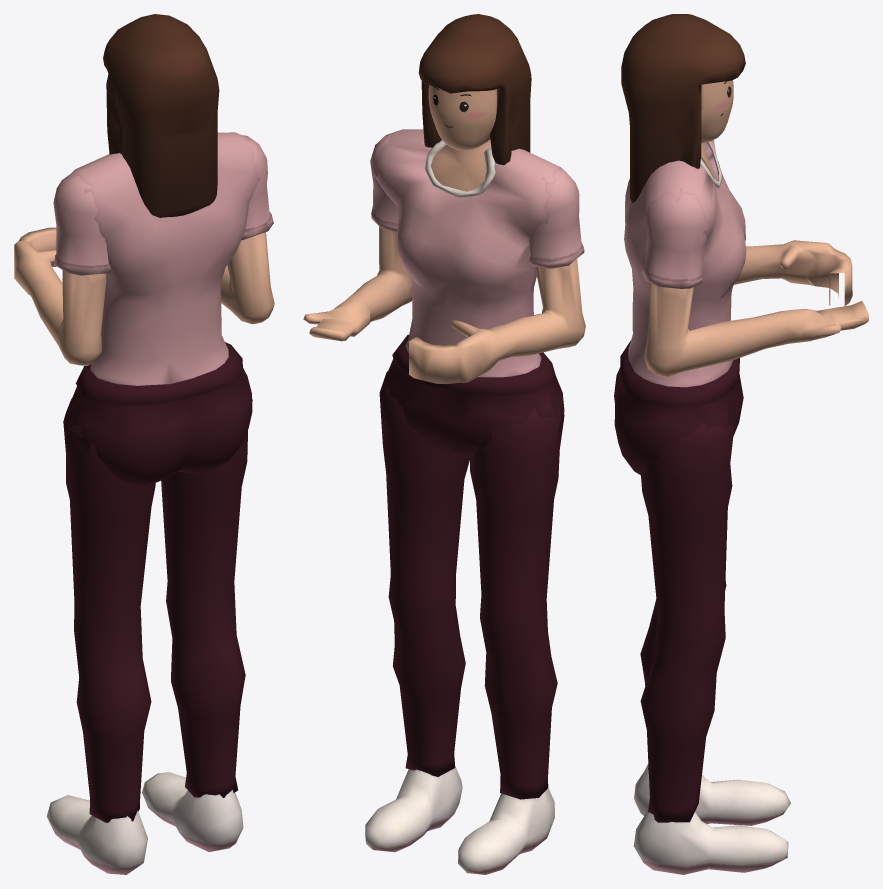
File: npc_bangs.glb
The picture shows the model from 3 angles, left to right: view 1: azimuth 30°, elevation 25°; view 2: azimuth 150°, elevation 25°; view 3: azimuth 270°, elevation 25°; orthographic projection. The views are drawn at different scales.
Visible parts, largest first — view 1: Torso_Top, LegL_Pants, LegR_Pants, Head_Hair, Torso_Hips, ArmL_Skin, LegR_Shoe, LegL_Shoe, ArmL_Sleeve, ArmR_Skin, ArmR_Sleeve; view 2: LegL_Pants, Torso_Top, LegR_Pants, Torso_Hips, Head_Hair, ArmL_Skin, LegR_Shoe, LegL_Shoe, ArmR_Skin, ArmL_Sleeve, Head_Skin, Torso_Skin (+2 smaller); view 3: LegR_Pants, Head_Hair, Torso_Top, ArmR_Skin, Torso_Hips, LegR_Shoe, ArmR_Sleeve, ArmL_Skin, LegL_Shoe, Head_Skin, LegL_Pants.
Boxes of the visible parts, x1,y1,x2,y2 form: Torso_Top: [67, 132, 260, 385]; LegL_Pants: [63, 398, 155, 822]; LegR_Pants: [161, 399, 252, 797]; Head_Hair: [103, 14, 219, 217]; Torso_Hips: [68, 342, 252, 484]; ArmL_Skin: [14, 227, 106, 365]; LegR_Shoe: [142, 772, 243, 851]; LegL_Shoe: [46, 795, 147, 874]; ArmL_Sleeve: [53, 171, 111, 275]; ArmR_Skin: [221, 232, 274, 324]; ArmR_Sleeve: [237, 134, 273, 240]; LegL_Pants: [470, 408, 564, 799]; Torso_Top: [373, 129, 567, 377]; LegR_Pants: [379, 371, 469, 776]; Torso_Hips: [384, 334, 564, 458]; Head_Hair: [418, 14, 531, 165]; ArmL_Skin: [408, 259, 585, 383]; LegR_Shoe: [365, 766, 462, 852]; LegL_Shoe: [458, 788, 554, 874]; ArmR_Skin: [303, 226, 412, 341]; ArmL_Sleeve: [529, 167, 584, 268]; Head_Skin: [428, 85, 497, 150]; Torso_Skin: [431, 139, 491, 191]; LegR_Pants: [640, 422, 733, 822]; Head_Hair: [621, 14, 745, 202]; Torso_Top: [624, 140, 746, 387]; ArmR_Skin: [644, 283, 868, 376]; Torso_Hips: [614, 340, 743, 475]; LegR_Shoe: [633, 809, 788, 874]; ArmR_Sleeve: [641, 188, 709, 288]; ArmL_Skin: [734, 240, 852, 305]; LegL_Shoe: [634, 764, 790, 825]; Head_Skin: [701, 80, 733, 143]; LegL_Pants: [640, 581, 726, 769].
Size of the model in its own units: 0.4358 by 1.65 by 0.4627.
Materials: 5 (5 with a texture image).
